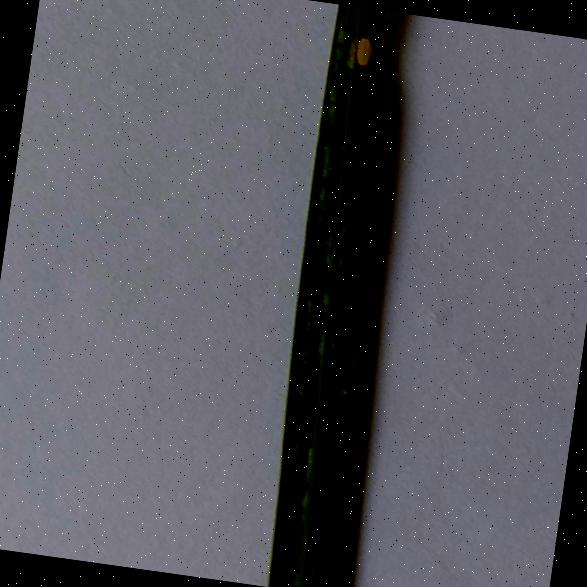Leaf_smut: (344, 26, 382, 72)
